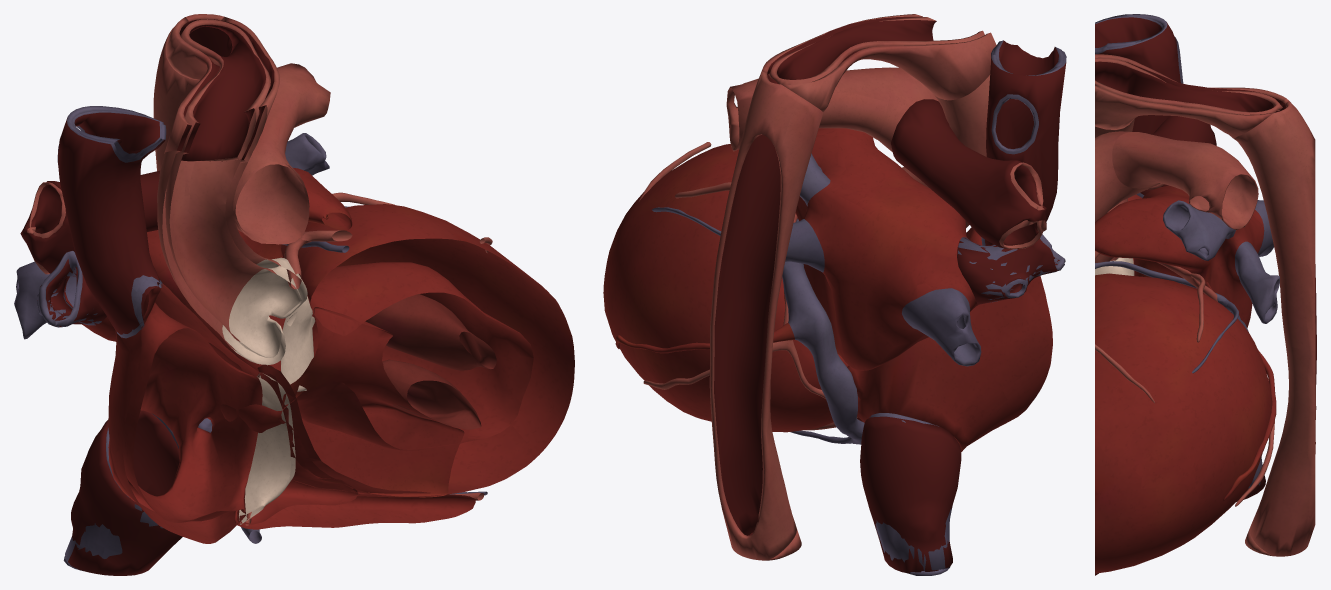
Rendered from heartf-cut-full.d49bd94e.glb.
The picture shows the model from 3 angles, left to right: view 1: azimuth 30°, elevation 25°; view 2: azimuth 150°, elevation 25°; view 3: azimuth 270°, elevation 25°; orthographic projection. The views are drawn at different scales.
Parts seen in each view (by area): view 1: F_Circulatory_Ventricle_Left, F_Circulatory_CardiacAtrium_Right, F_Circulatory_SuperiorVenaCava, F_Circulatory_InterventricularSeptum, F_Circulatory_AscendingAorta, F_Circulatory_AorticArch, F_Circulatory_InferiorVenaCavaA, F_Circulatory_Ventricle_Right, F_Circulatory_PapillaryMuscleOfHeartAntlat, F_Circulatory_AorticValve, F_Circulatory_PulmonaryTrunk, F_Circulatory_CardiacAtrium_Left (+9 smaller); view 2: F_Circulatory_DescendingAortaA, F_Circulatory_Ventricle_Left, F_Circulatory_CardiacAtrium_Left, F_Circulatory_CardiacAtrium_Right, F_Circulatory_InferiorVenaCavaA, F_Circulatory_AorticArch, F_Circulatory_PulmonaryArtery_Right, F_Circulatory_SuperiorVenaCava, F_Circulatory_CoronarySinus, F_Circulatory_PulmonaryArtery_Left, F_Circulatory_PulmonaryVeinRSup, F_Circulatory_PulmonaryVeinRInf (+6 smaller); view 3: F_Circulatory_Ventricle_Left, F_Circulatory_DescendingAortaA, F_Circulatory_AorticArch, F_Circulatory_CardiacAtrium_Left, F_Circulatory_PulmonaryArtery_Left, F_Circulatory_SuperiorVenaCava, F_Circulatory_PulmonaryVeinLSup, F_Circulatory_PulmonaryVeinLInf, F_Circulatory_PulmonaryTrunk, F_Circulatory_PulmonaryArtery_Right, F_Circulatory_PosteriorVeinOfVentricle_Left, F_Circulatory_GreatCardiacVein (+8 smaller).
Part boxes in pixels (left/top/right/bottom): F_Circulatory_Ventricle_Left: left=220, top=204, right=574, bottom=497; F_Circulatory_CardiacAtrium_Right: left=108, top=283, right=262, bottom=543; F_Circulatory_SuperiorVenaCava: left=57, top=106, right=166, bottom=338; F_Circulatory_InterventricularSeptum: left=281, top=307, right=464, bottom=497; F_Circulatory_AscendingAorta: left=157, top=150, right=280, bottom=350; F_Circulatory_AorticArch: left=164, top=16, right=279, bottom=163; F_Circulatory_InferiorVenaCavaA: left=65, top=410, right=182, bottom=575; F_Circulatory_Ventricle_Right: left=234, top=364, right=475, bottom=529; F_Circulatory_PapillaryMuscleOfHeartAntlat: left=365, top=294, right=496, bottom=370; F_Circulatory_AorticValve: left=222, top=257, right=307, bottom=365; F_Circulatory_PulmonaryTrunk: left=233, top=139, right=309, bottom=244; F_Circulatory_CardiacAtrium_Left: left=64, top=168, right=352, bottom=371; F_Circulatory_DescendingAortaA: left=709, top=71, right=823, bottom=560; F_Circulatory_Ventricle_Left: left=603, top=144, right=848, bottom=432; F_Circulatory_CardiacAtrium_Left: left=795, top=128, right=978, bottom=370; F_Circulatory_CardiacAtrium_Right: left=847, top=227, right=1052, bottom=452; F_Circulatory_InferiorVenaCavaA: left=860, top=413, right=961, bottom=573; F_Circulatory_AorticArch: left=762, top=14, right=996, bottom=112; F_Circulatory_PulmonaryArtery_Right: left=891, top=99, right=1046, bottom=249; F_Circulatory_SuperiorVenaCava: left=981, top=40, right=1066, bottom=245; F_Circulatory_CoronarySinus: left=782, top=261, right=864, bottom=444; F_Circulatory_PulmonaryArtery_Left: left=726, top=67, right=893, bottom=151; F_Circulatory_PulmonaryVeinRSup: left=957, top=234, right=1065, bottom=304; F_Circulatory_PulmonaryVeinRInf: left=902, top=288, right=981, bottom=366; F_Circulatory_Ventricle_Left: left=1095, top=273, right=1272, bottom=573; F_Circulatory_DescendingAortaA: left=1233, top=101, right=1316, bottom=556; F_Circulatory_AorticArch: left=1095, top=54, right=1288, bottom=138; F_Circulatory_CardiacAtrium_Left: left=1095, top=185, right=1264, bottom=327; F_Circulatory_PulmonaryArtery_Left: left=1112, top=132, right=1258, bottom=230; F_Circulatory_SuperiorVenaCava: left=1095, top=14, right=1183, bottom=197; F_Circulatory_PulmonaryVeinLSup: left=1163, top=200, right=1235, bottom=260; F_Circulatory_PulmonaryVeinLInf: left=1235, top=241, right=1279, bottom=323; F_Circulatory_PulmonaryTrunk: left=1095, top=131, right=1160, bottom=221; F_Circulatory_PulmonaryArtery_Right: left=1146, top=115, right=1216, bottom=189; F_Circulatory_PosteriorVeinOfVentricle_Left: left=1223, top=350, right=1276, bottom=501; F_Circulatory_GreatCardiacVein: left=1095, top=261, right=1226, bottom=301.
Size of the model in its own units: 0.1559 by 0.1503 by 0.0688.
Materials: 3 (2 with a texture image).
